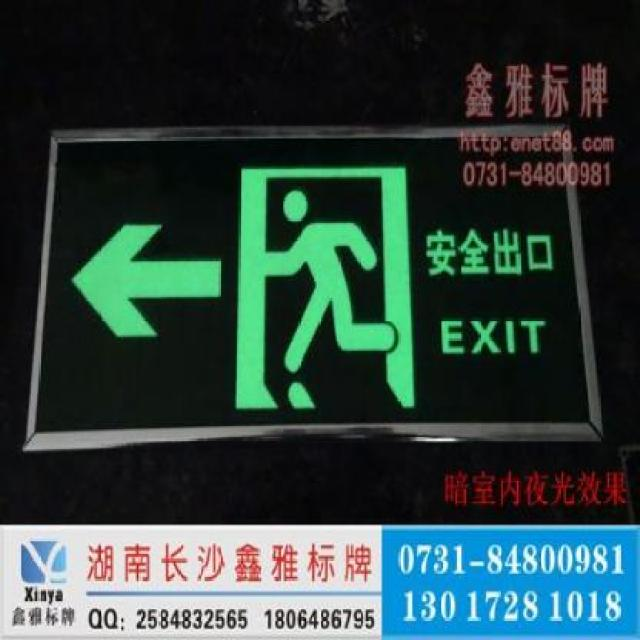exit_sign: (43, 133, 599, 444)
